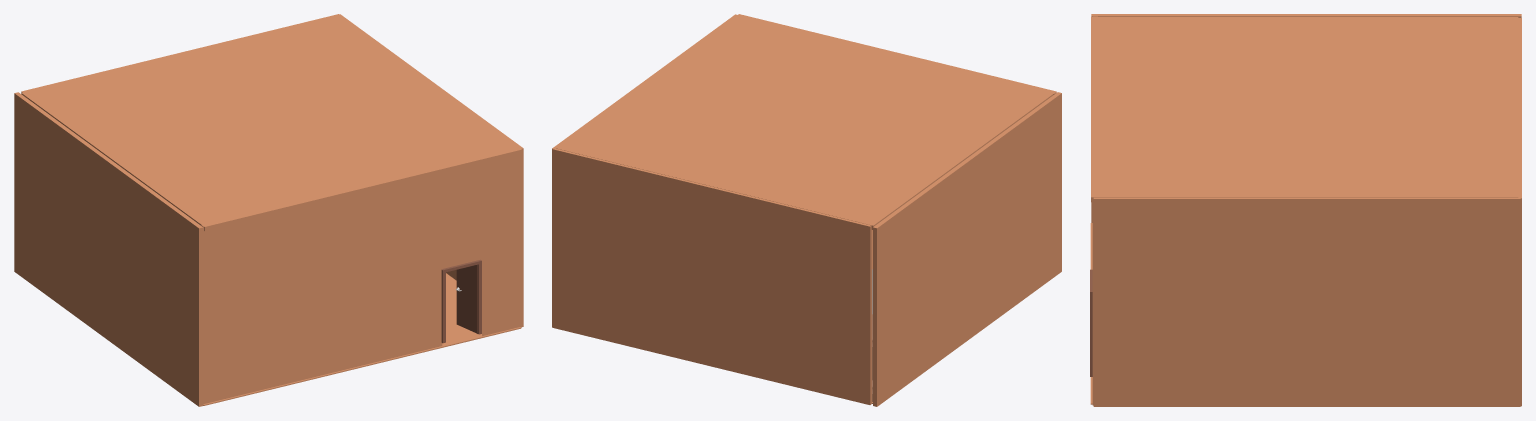
The model's file is room3.glb.
The picture shows the model from 3 angles, left to right: view 1: azimuth 30°, elevation 25°; view 2: azimuth 150°, elevation 25°; view 3: azimuth 270°, elevation 25°; orthographic projection. The views are drawn at different scales.
Visible parts, largest first — view 1: Roof, Wall, Wall1, Floor, Door, Wall4, DoorFrame, Wall2; view 2: Wall2, Roof, Wall1, Wall4; view 3: Wall4, Roof, Wall1, Wall2, Wall.
Boxes of the visible parts, x1,y1,x2,y2 form: Roof: [21, 15, 522, 231]; Wall: [201, 154, 521, 404]; Wall1: [14, 92, 203, 406]; Floor: [203, 273, 521, 405]; Door: [456, 264, 478, 334]; Wall4: [336, 14, 523, 326]; DoorFrame: [441, 259, 481, 343]; Wall2: [21, 14, 340, 92]; Wall2: [552, 147, 872, 404]; Roof: [556, 14, 1056, 229]; Wall1: [873, 92, 1061, 406]; Wall4: [552, 14, 736, 326]; Wall4: [1093, 196, 1520, 406]; Roof: [1091, 17, 1518, 202]; Wall1: [1091, 14, 1521, 222]; Wall2: [1516, 18, 1521, 406]; Wall: [1092, 16, 1097, 405].
Bounding box in the file's own units: 5.75 × 3.02 × 5.67.
